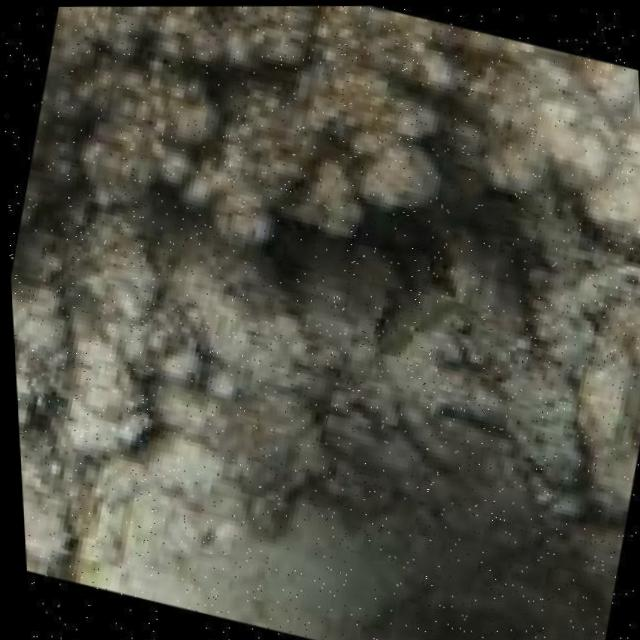Dead Coral: (8, 258, 567, 503), (31, 0, 488, 241)
